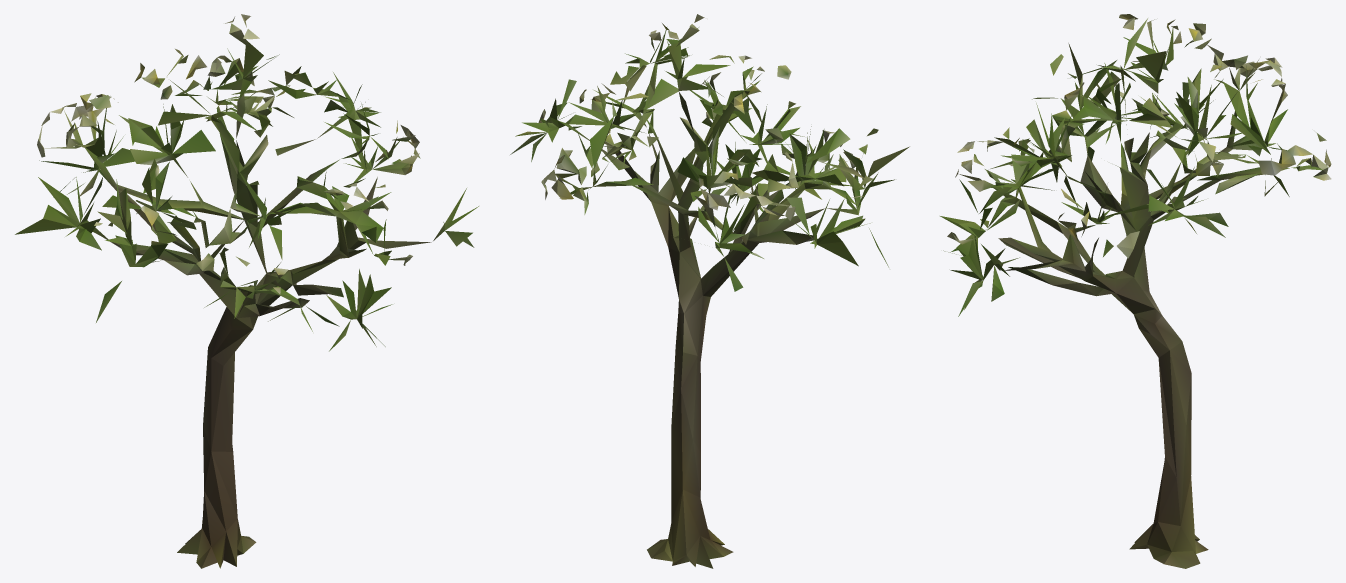
File: lib_tp_dai.vc2.glb
3 renders of one model, left to right at view 1: azimuth 30°, elevation 25°; view 2: azimuth 150°, elevation 25°; view 3: azimuth 270°, elevation 25°, orthographic. The views are drawn at different scales.
Visible parts, largest first — view 1: lib_tp_dai; view 2: lib_tp_dai; view 3: lib_tp_dai.
Part boxes in pixels (x1,y1,x2,y2): lib_tp_dai: [15, 14, 478, 568]; lib_tp_dai: [510, 14, 909, 568]; lib_tp_dai: [940, 14, 1331, 568].
Size of the model in its own units: 1.37 by 1.89 by 1.25.
